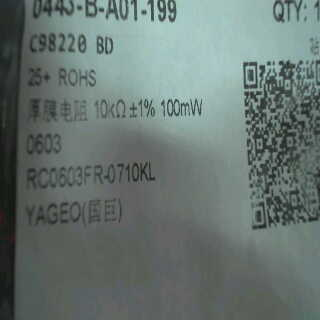10kR: (92, 94, 127, 124)
